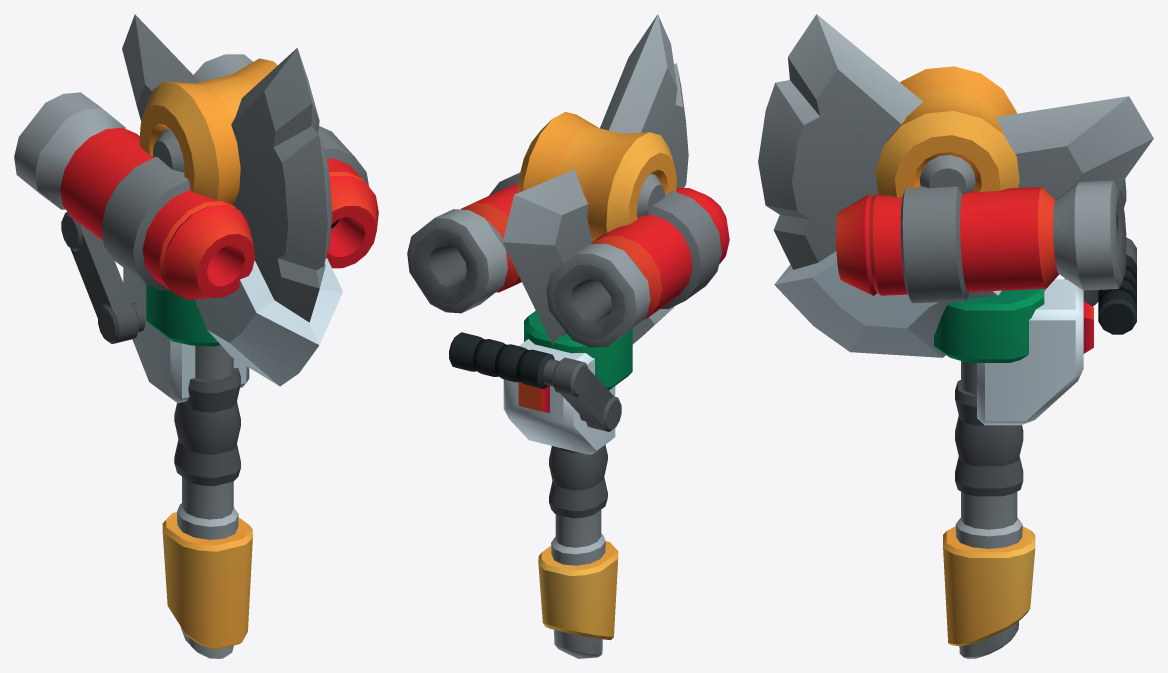
The model's file is CombatMech_Axe.fbx.
The picture shows the model from 3 angles, left to right: view 1: azimuth 30°, elevation 25°; view 2: azimuth 150°, elevation 25°; view 3: azimuth 270°, elevation 25°; orthographic projection. The views are drawn at different scales.
Parts seen in each view (by area): view 1: CombatMech_Axe; view 2: CombatMech_Axe; view 3: CombatMech_Axe.
Part boxes in pixels (left/top/right/bottom): CombatMech_Axe: left=14, top=14, right=378, bottom=658; CombatMech_Axe: left=407, top=14, right=729, bottom=658; CombatMech_Axe: left=758, top=14, right=1153, bottom=658.
Size of the model in its own units: 0.6286 by 1.54 by 0.8631.
